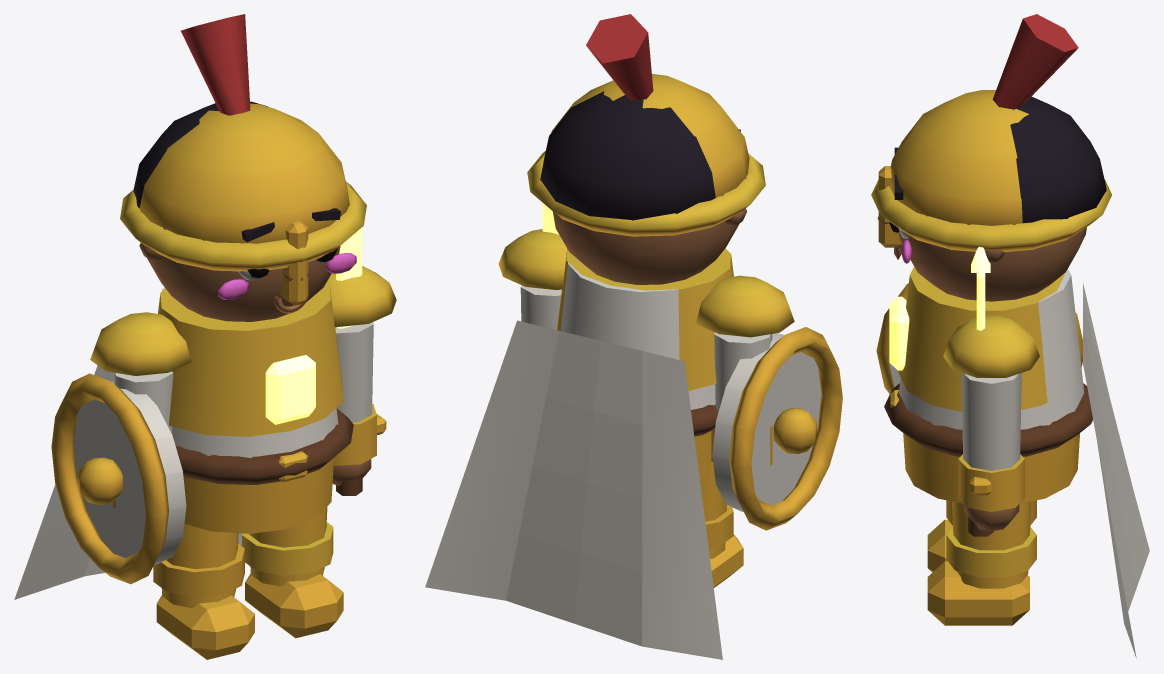
The model's file is hero_sol.glb.
The picture shows the model from 3 angles, left to right: view 1: azimuth 30°, elevation 25°; view 2: azimuth 150°, elevation 25°; view 3: azimuth 270°, elevation 25°; orthographic projection. The views are drawn at different scales.
Visible parts, largest first — view 1: body_t0_palette, arml_t0_palette, legl_t0_palette, legr_t0_palette, armr_t0_palette, body_t0_glow_gold, armr_t0_glow_gold; view 2: body_t0_palette, arml_t0_palette, armr_t0_palette, legl_t0_palette; view 3: body_t0_palette, armr_t0_palette, legr_t0_palette, body_t0_glow_gold, arml_t0_palette, legl_t0_palette, armr_t0_glow_gold.
Boxes of the visible parts, bbox=[...] form: body_t0_palette: bbox=[14, 14, 366, 599]; arml_t0_palette: bbox=[51, 312, 191, 584]; legl_t0_palette: bbox=[153, 524, 254, 659]; legr_t0_palette: bbox=[242, 507, 343, 638]; armr_t0_palette: bbox=[327, 266, 396, 495]; body_t0_glow_gold: bbox=[265, 355, 315, 424]; armr_t0_glow_gold: bbox=[336, 227, 362, 328]; body_t0_palette: bbox=[425, 14, 765, 659]; arml_t0_palette: bbox=[696, 275, 842, 530]; armr_t0_palette: bbox=[498, 229, 566, 329]; legl_t0_palette: bbox=[700, 462, 743, 587]; body_t0_palette: bbox=[871, 14, 1149, 658]; armr_t0_palette: bbox=[943, 315, 1039, 536]; legr_t0_palette: bbox=[927, 501, 1036, 625]; body_t0_glow_gold: bbox=[889, 296, 909, 370]; arml_t0_palette: bbox=[876, 283, 1082, 393]; legl_t0_palette: bbox=[927, 500, 1036, 572]; armr_t0_glow_gold: bbox=[971, 247, 990, 330].
Bounding box in the file's own units: 0.3349 × 0.5929 × 0.259.
